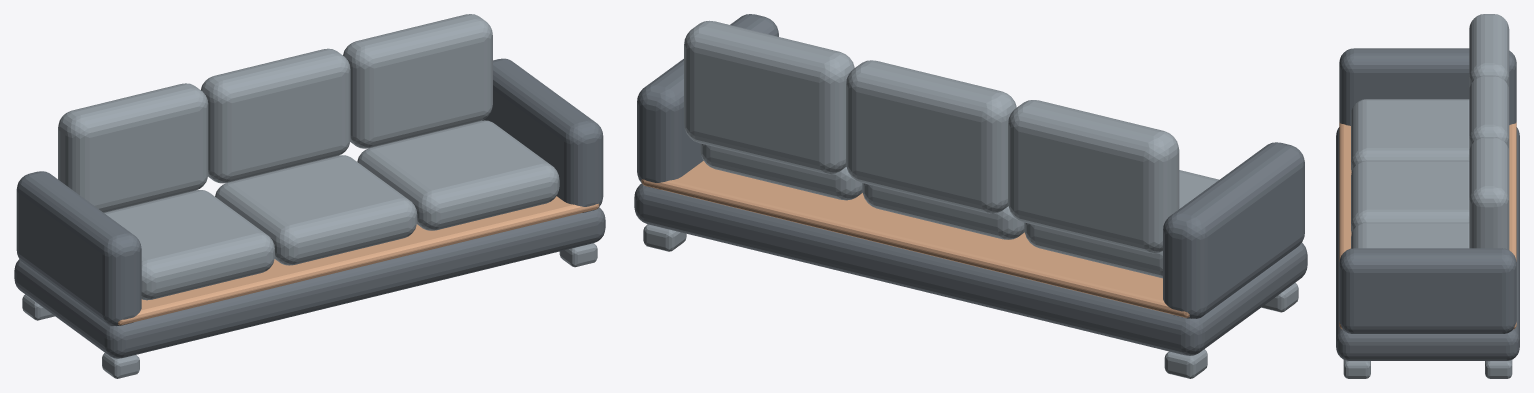
The model's file is lounge_sofa_3.glb.
3 views of the same model, side by side, from view 1: azimuth 30°, elevation 25°; view 2: azimuth 150°, elevation 25°; view 3: azimuth 270°, elevation 25° (orthographic). The views are drawn at different scales.
Parts seen in each view (by area): view 1: shell_005, shell_010, shell_012, shell_008, shell_011, shell_009, shell_013, shell_007, shell_015, shell_006, foot_002, foot_004; view 2: shell_005, shell_008, shell_012, shell_010, shell_006, shell_013, shell_015, shell_007, shell_009, shell_011, foot_001, foot_003 (+1 smaller); view 3: shell_015, shell_013, shell_009, shell_007, shell_005, shell_012, shell_011, shell_006, shell_010, shell_008, foot_003, foot_004.
Part boxes in pixels (<box>): shell_005: <box>14,207,605,358</box>; shell_010: <box>201,48,350,183</box>; shell_012: <box>343,14,492,148</box>; shell_008: <box>58,83,208,212</box>; shell_011: <box>357,120,559,230</box>; shell_009: <box>215,155,417,265</box>; shell_013: <box>16,171,141,326</box>; shell_007: <box>104,190,274,300</box>; shell_015: <box>482,58,603,212</box>; shell_006: <box>118,196,599,325</box>; foot_002: <box>102,353,139,378</box>; foot_004: <box>559,243,597,267</box>; shell_005: <box>634,183,1307,355</box>; shell_008: <box>1008,100,1179,253</box>; shell_012: <box>684,20,854,174</box>; shell_010: <box>846,60,1016,213</box>; shell_006: <box>641,161,1189,317</box>; shell_013: <box>1163,142,1304,318</box>; shell_015: <box>637,14,778,189</box>; shell_007: <box>1024,170,1219,278</box>; shell_009: <box>862,183,1024,239</box>; shell_011: <box>700,143,862,200</box>; foot_001: <box>1164,349,1207,378</box>; foot_003: <box>643,224,686,251</box>; shell_015: <box>1339,248,1516,333</box>; shell_013: <box>1339,48,1516,125</box>; shell_009: <box>1351,160,1469,233</box>; shell_007: <box>1351,99,1469,171</box>; shell_005: <box>1336,127,1519,360</box>; shell_012: <box>1469,137,1509,249</box>; shell_011: <box>1351,222,1469,248</box>; shell_006: <box>1339,122,1516,329</box>; shell_010: <box>1469,75,1509,151</box>; shell_008: <box>1469,14,1509,89</box>; foot_003: <box>1485,360,1512,378</box>; foot_004: <box>1343,360,1370,378</box>.
Bounding box in the file's own units: 2.42 × 0.915 × 0.87.
